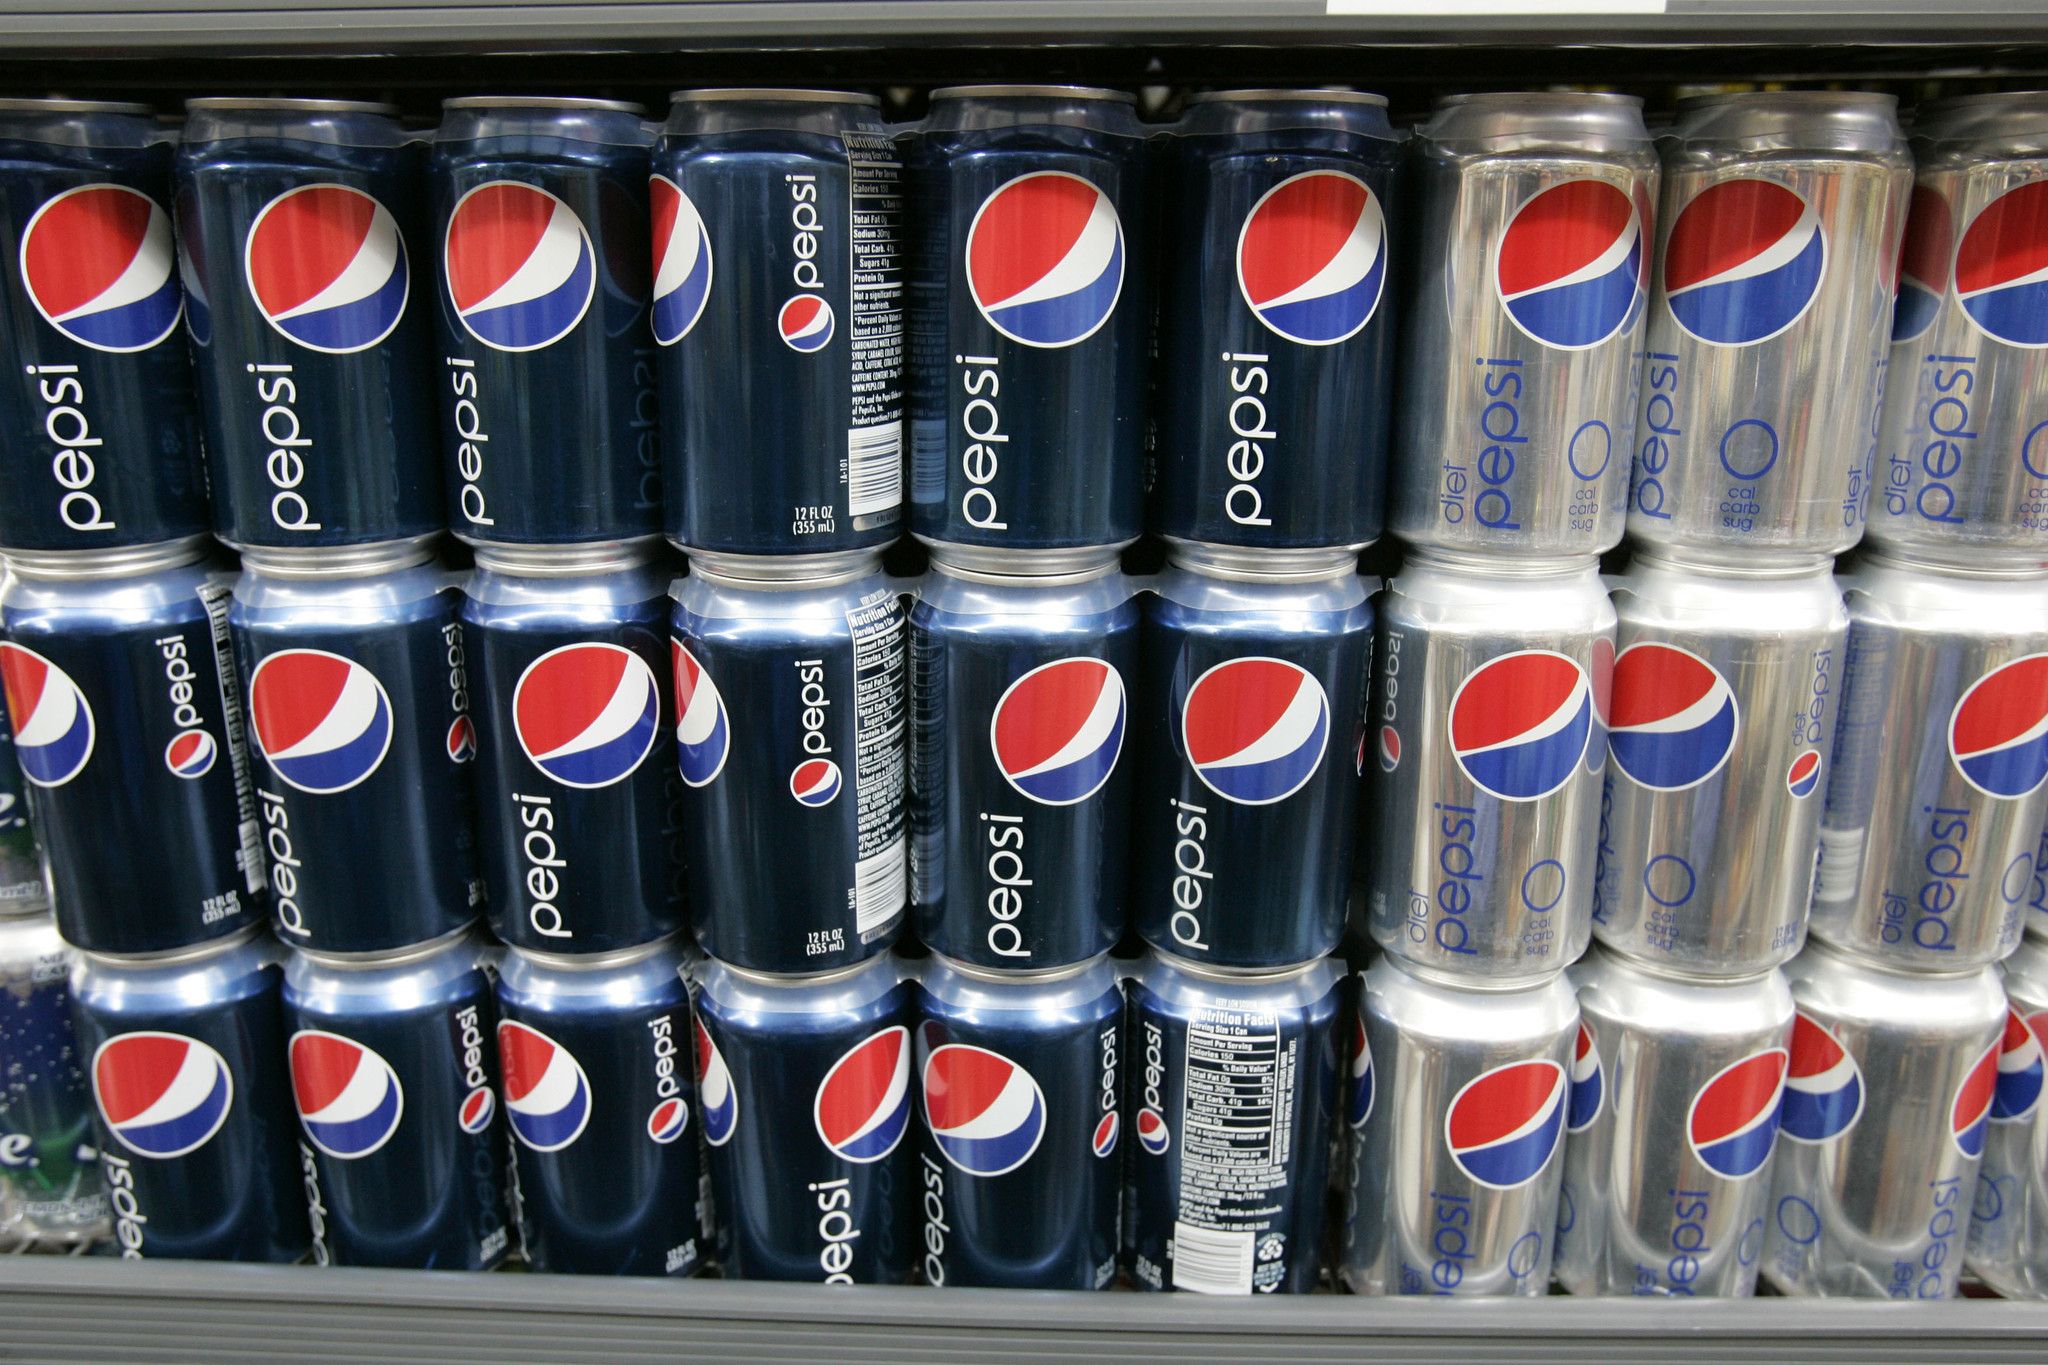pepsi: (8, 169, 181, 353), (234, 180, 414, 353), (1661, 171, 1826, 352), (961, 169, 1125, 347), (17, 177, 181, 353), (1661, 171, 1826, 347), (1492, 171, 1646, 356), (1661, 171, 1818, 352), (437, 174, 595, 352), (961, 169, 1118, 347), (1492, 171, 1646, 350), (437, 174, 591, 352), (1233, 169, 1387, 347), (1233, 169, 1387, 344), (1492, 171, 1629, 356), (1174, 654, 1331, 809), (1174, 654, 1325, 809), (506, 635, 656, 786), (1443, 644, 1582, 807), (247, 644, 396, 792), (987, 652, 1125, 807), (81, 1019, 228, 1158), (1609, 635, 1724, 804), (1609, 635, 1736, 788), (1938, 171, 2046, 347), (274, 1021, 405, 1164), (85, 1031, 228, 1158), (1948, 171, 2046, 350), (1934, 643, 2046, 798), (1948, 171, 2046, 347), (920, 1041, 1043, 1182), (1437, 1056, 1568, 1188), (283, 1025, 405, 1164), (1437, 1056, 1568, 1184), (1943, 643, 2046, 798), (1669, 1044, 1788, 1175), (0, 638, 94, 791), (490, 1018, 592, 1156), (490, 1018, 592, 1153), (812, 1024, 911, 1162), (646, 166, 722, 346), (812, 1024, 911, 1156), (646, 166, 722, 334), (646, 166, 716, 346), (659, 628, 732, 791), (1780, 1009, 1861, 1155), (1785, 1005, 1864, 1153), (678, 1013, 735, 1155), (1976, 1002, 2040, 1126), (1944, 1025, 2002, 1159), (678, 1013, 735, 1144), (775, 291, 836, 350), (158, 722, 222, 775), (1571, 1013, 1597, 1133), (641, 1089, 688, 1153), (789, 753, 844, 806), (1782, 745, 1821, 804), (1133, 1106, 1169, 1158), (1084, 1103, 1121, 1152), (457, 1083, 493, 1130), (1089, 1104, 1124, 1153)
